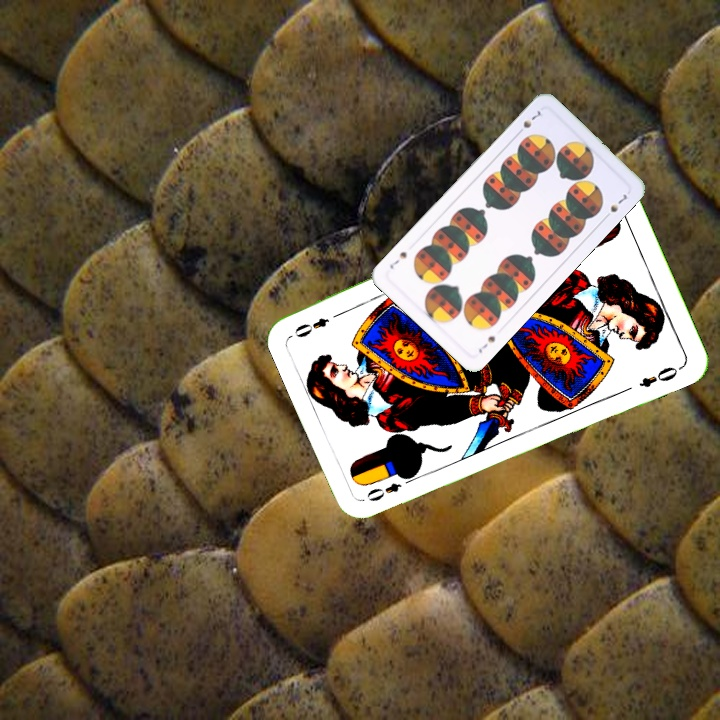EO: (362, 472, 417, 505)
S7: (513, 106, 543, 138), (474, 332, 498, 356)
